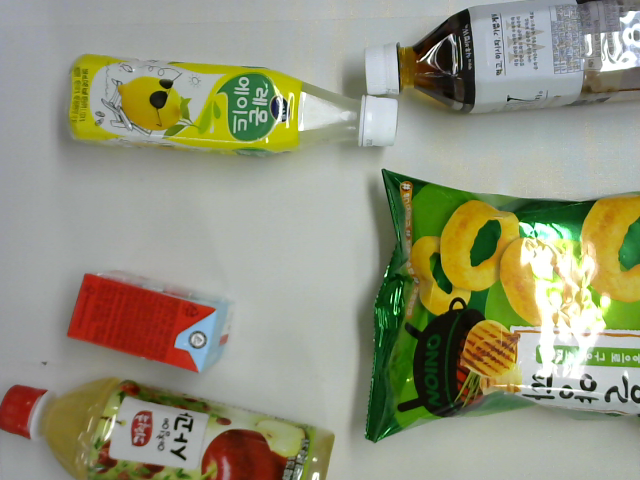Grilled_Onions: (363, 164, 640, 444)
Morning_Apple_500ml: (3, 376, 338, 480)
Picnic_Apple: (65, 264, 238, 375)
Post-meal_recipe_W_tea_500ml: (361, 1, 640, 118)
Sunkist_Lemonaid_Pet: (66, 53, 400, 159)
